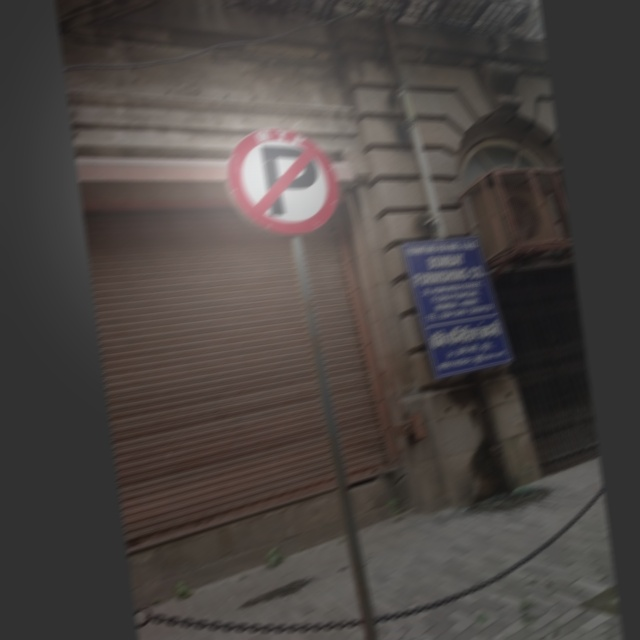No_Parking: (220, 114, 348, 244)
